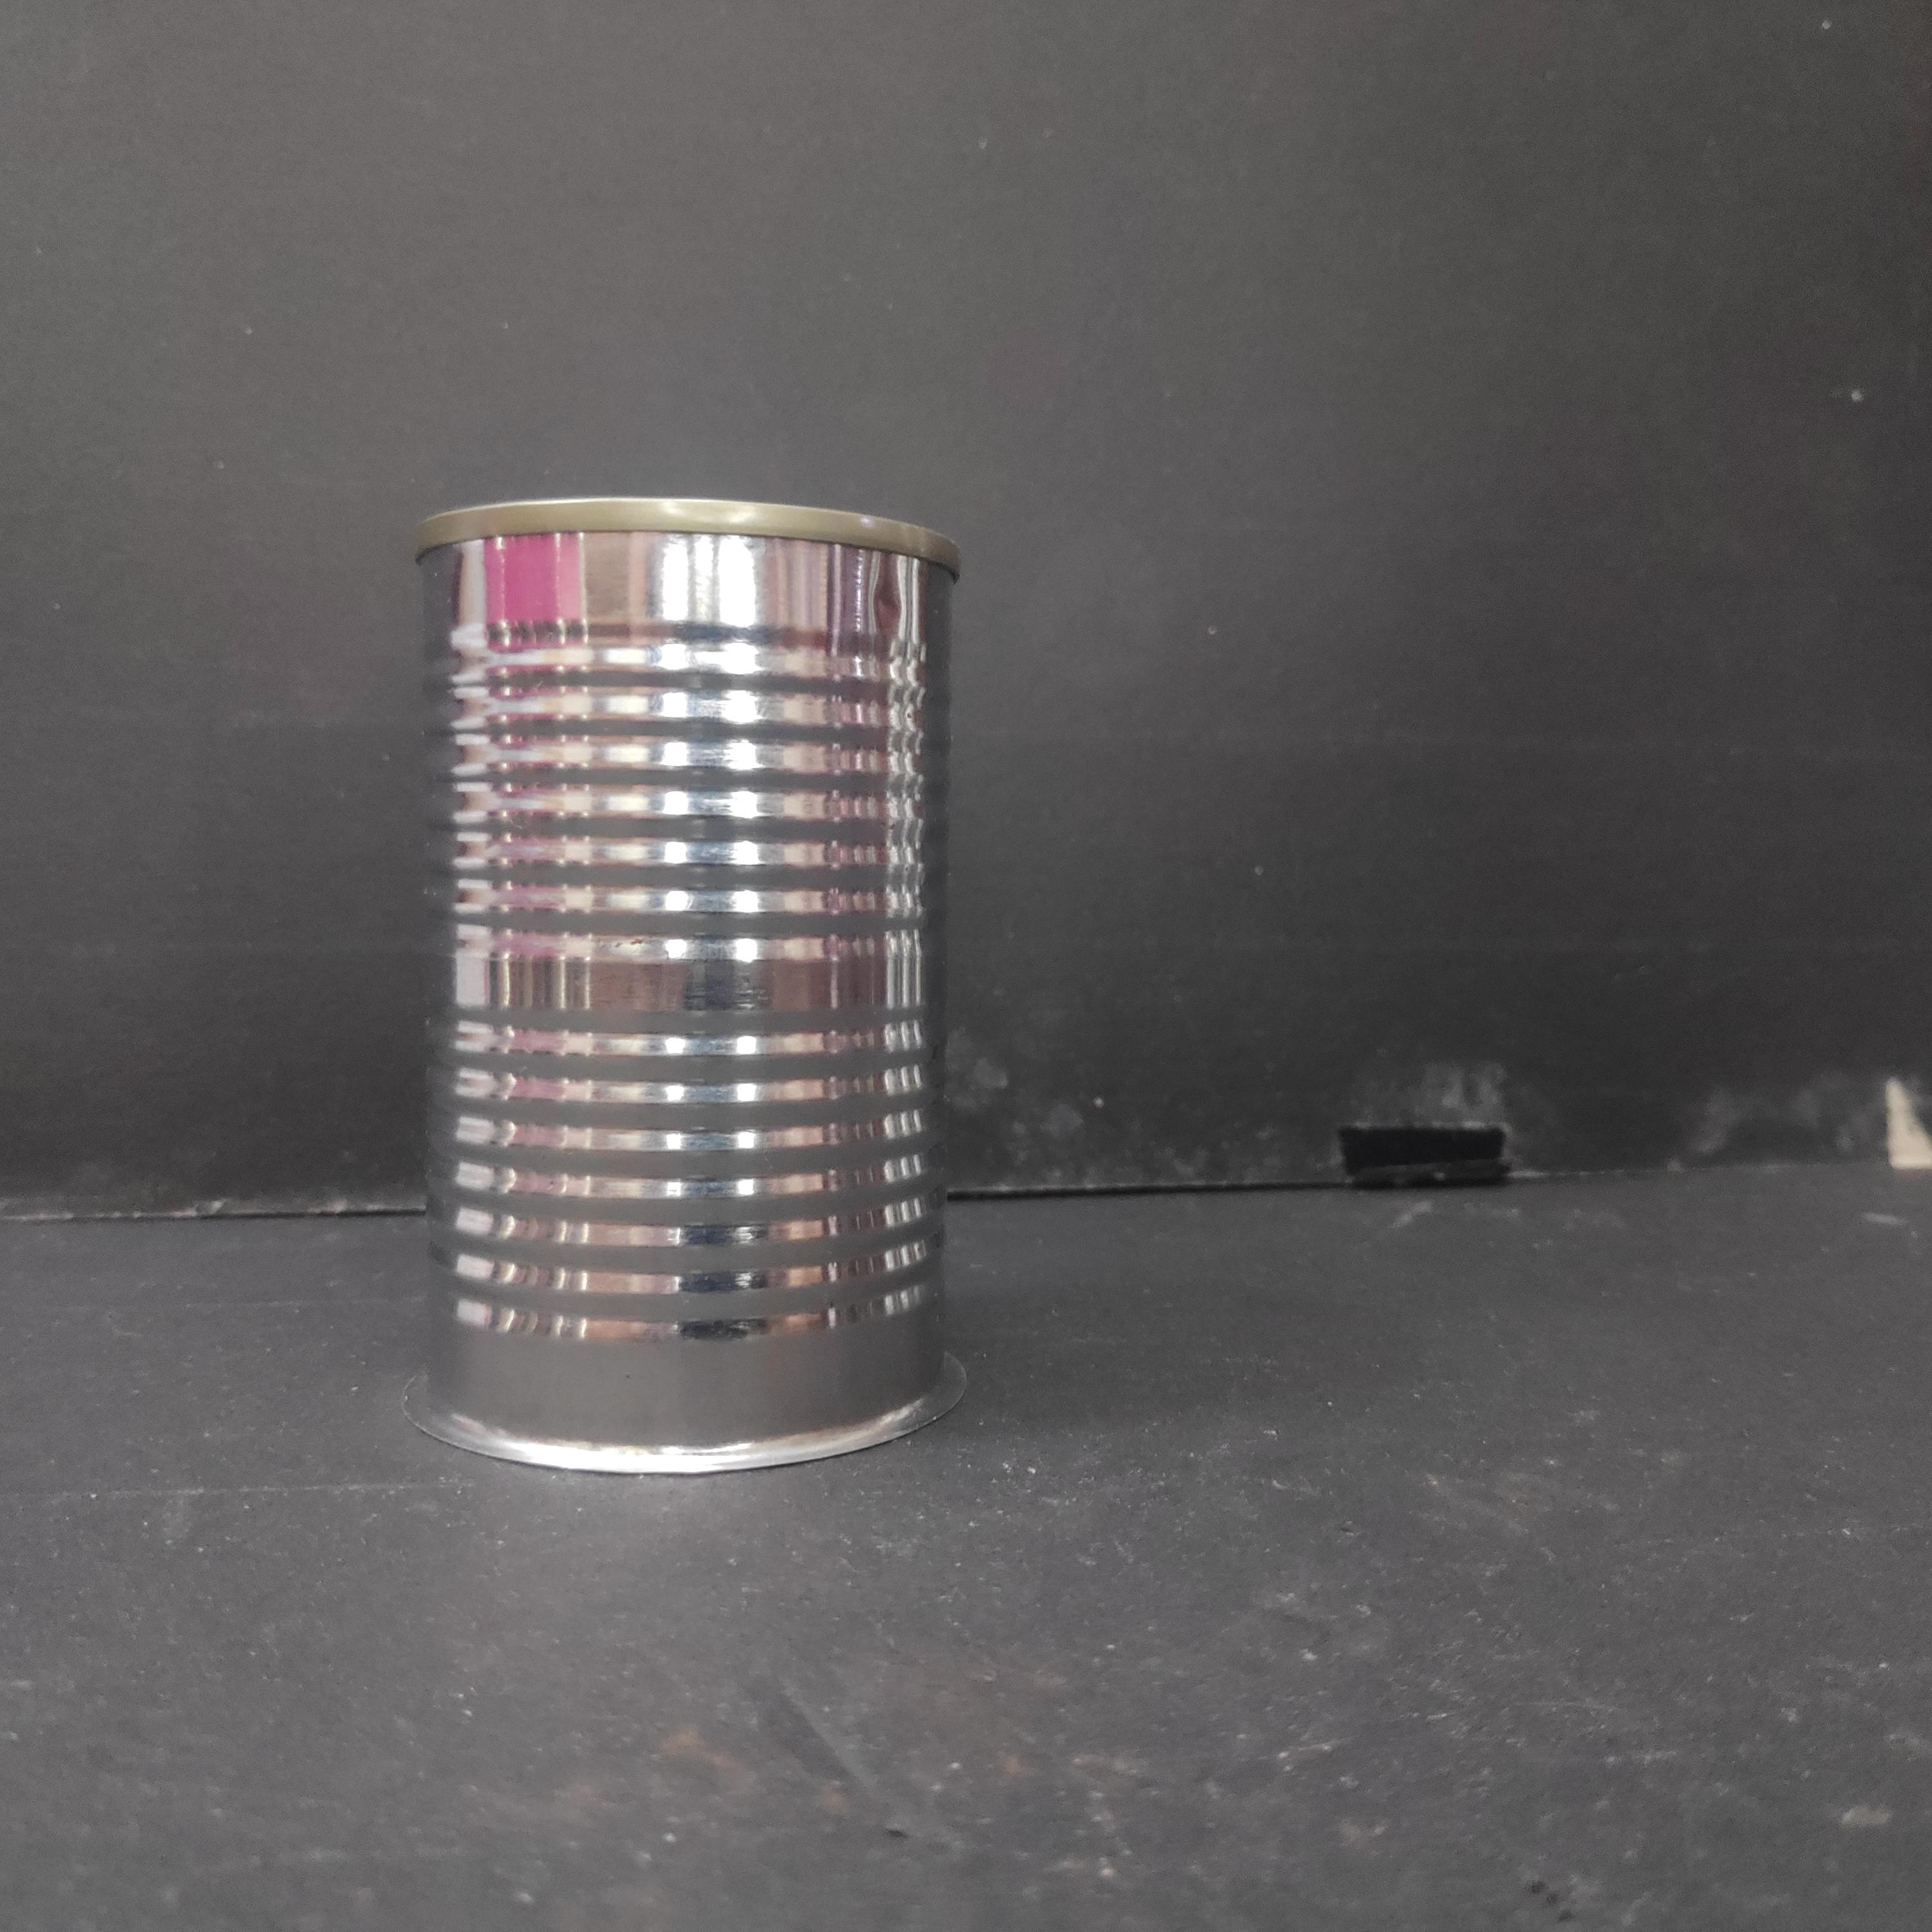No defect: (398, 496, 972, 1477)
